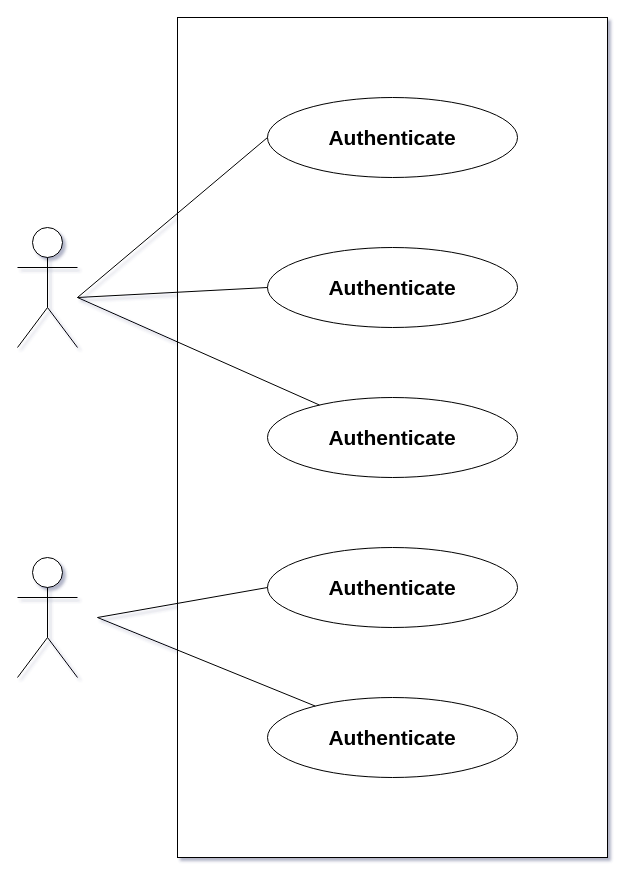
Image size: 631x881. Some labels were removed from this diagram. The centre of each missing label's shape, as x and y in pixels:
Admin: the point at 47,617
User: the point at 47,287
